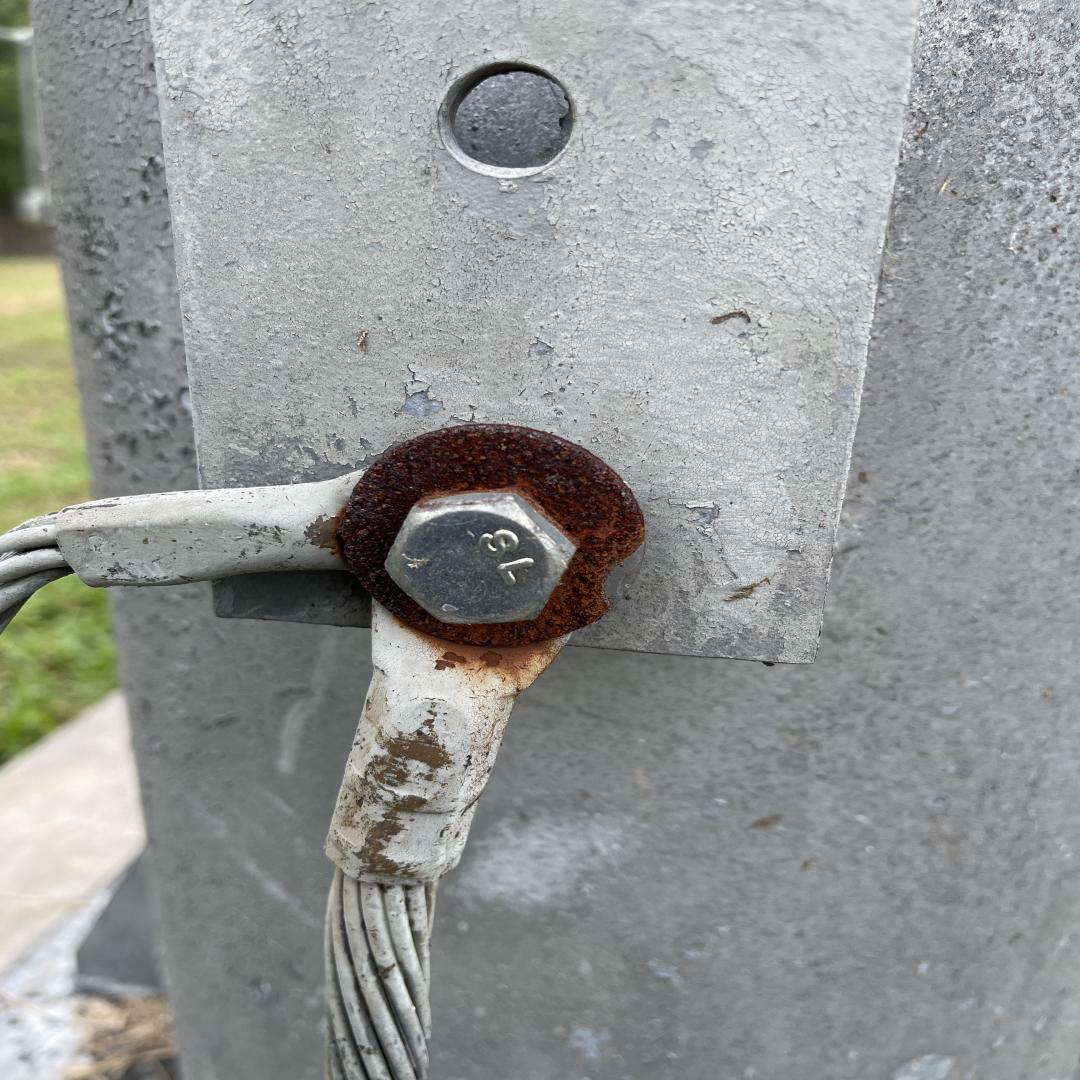Metal: (0, 0, 1080, 1080)
Metal corroido: (328, 424, 649, 694)
Tornillo sin corrosion: (384, 493, 576, 623)
